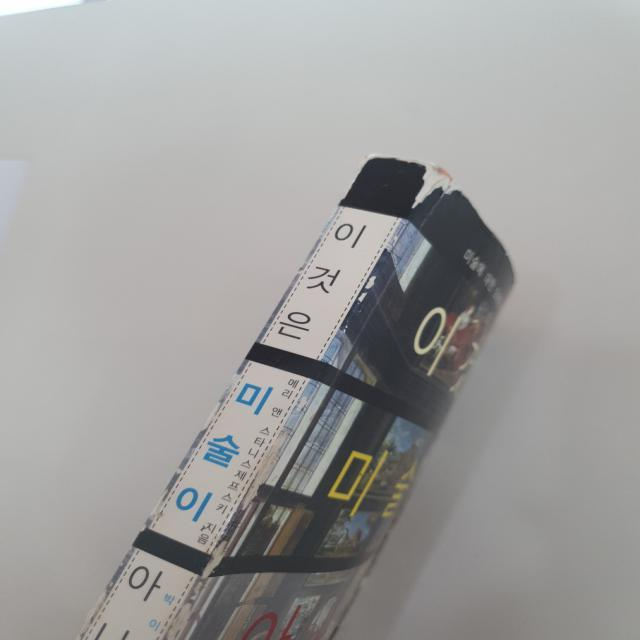Ripped: (334, 147, 391, 210), (412, 159, 469, 217)
Wornout: (161, 537, 231, 639), (239, 427, 291, 511), (340, 270, 383, 336), (65, 584, 116, 639), (145, 485, 170, 524), (382, 149, 425, 170), (292, 394, 314, 417)
